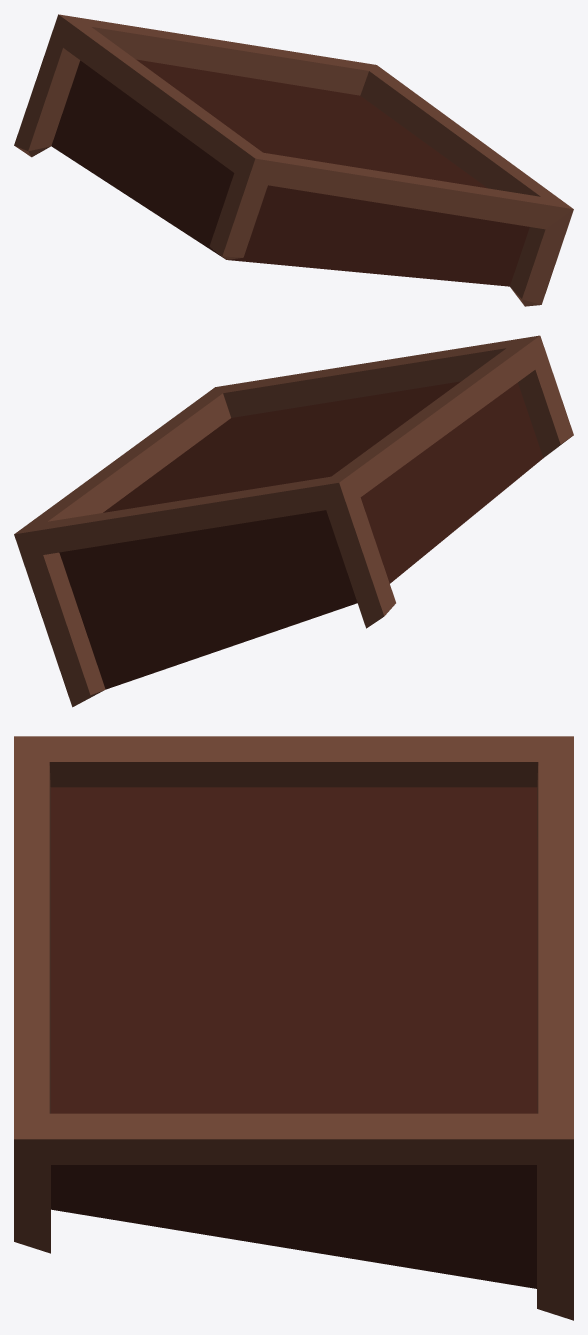
The model's file is Wreckage_1.fbx.
3 views of the same model, one above another, from view 1: azimuth 30°, elevation 25°; view 2: azimuth 150°, elevation 25°; view 3: azimuth 270°, elevation 25° (orthographic). The views are drawn at different scales.
Visible parts, largest first — view 1: Wreckage_1; view 2: Wreckage_1; view 3: Wreckage_1.
Part boxes in pixels (left/top/right/bottom): Wreckage_1: left=14, top=14, right=573, bottom=306; Wreckage_1: left=14, top=335, right=573, bottom=707; Wreckage_1: left=14, top=736, right=573, bottom=1320.
Bounding box in the file's own units: 14.58 × 10.9 × 13.72.
